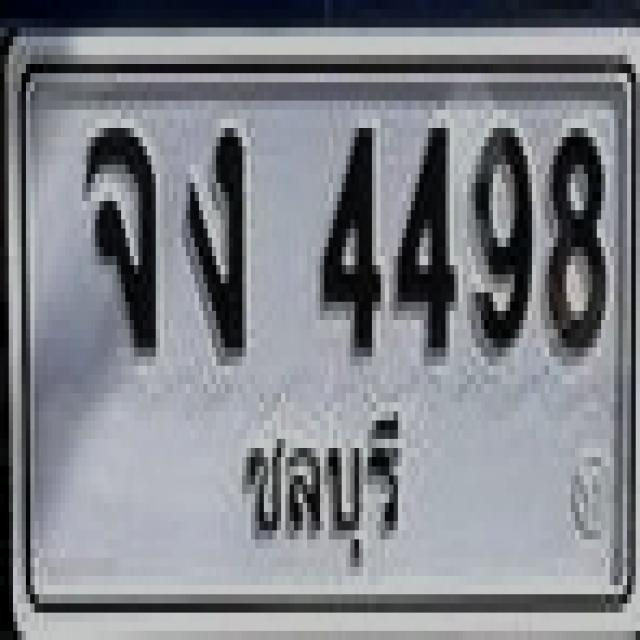license_plate: (5, 35, 640, 640)
